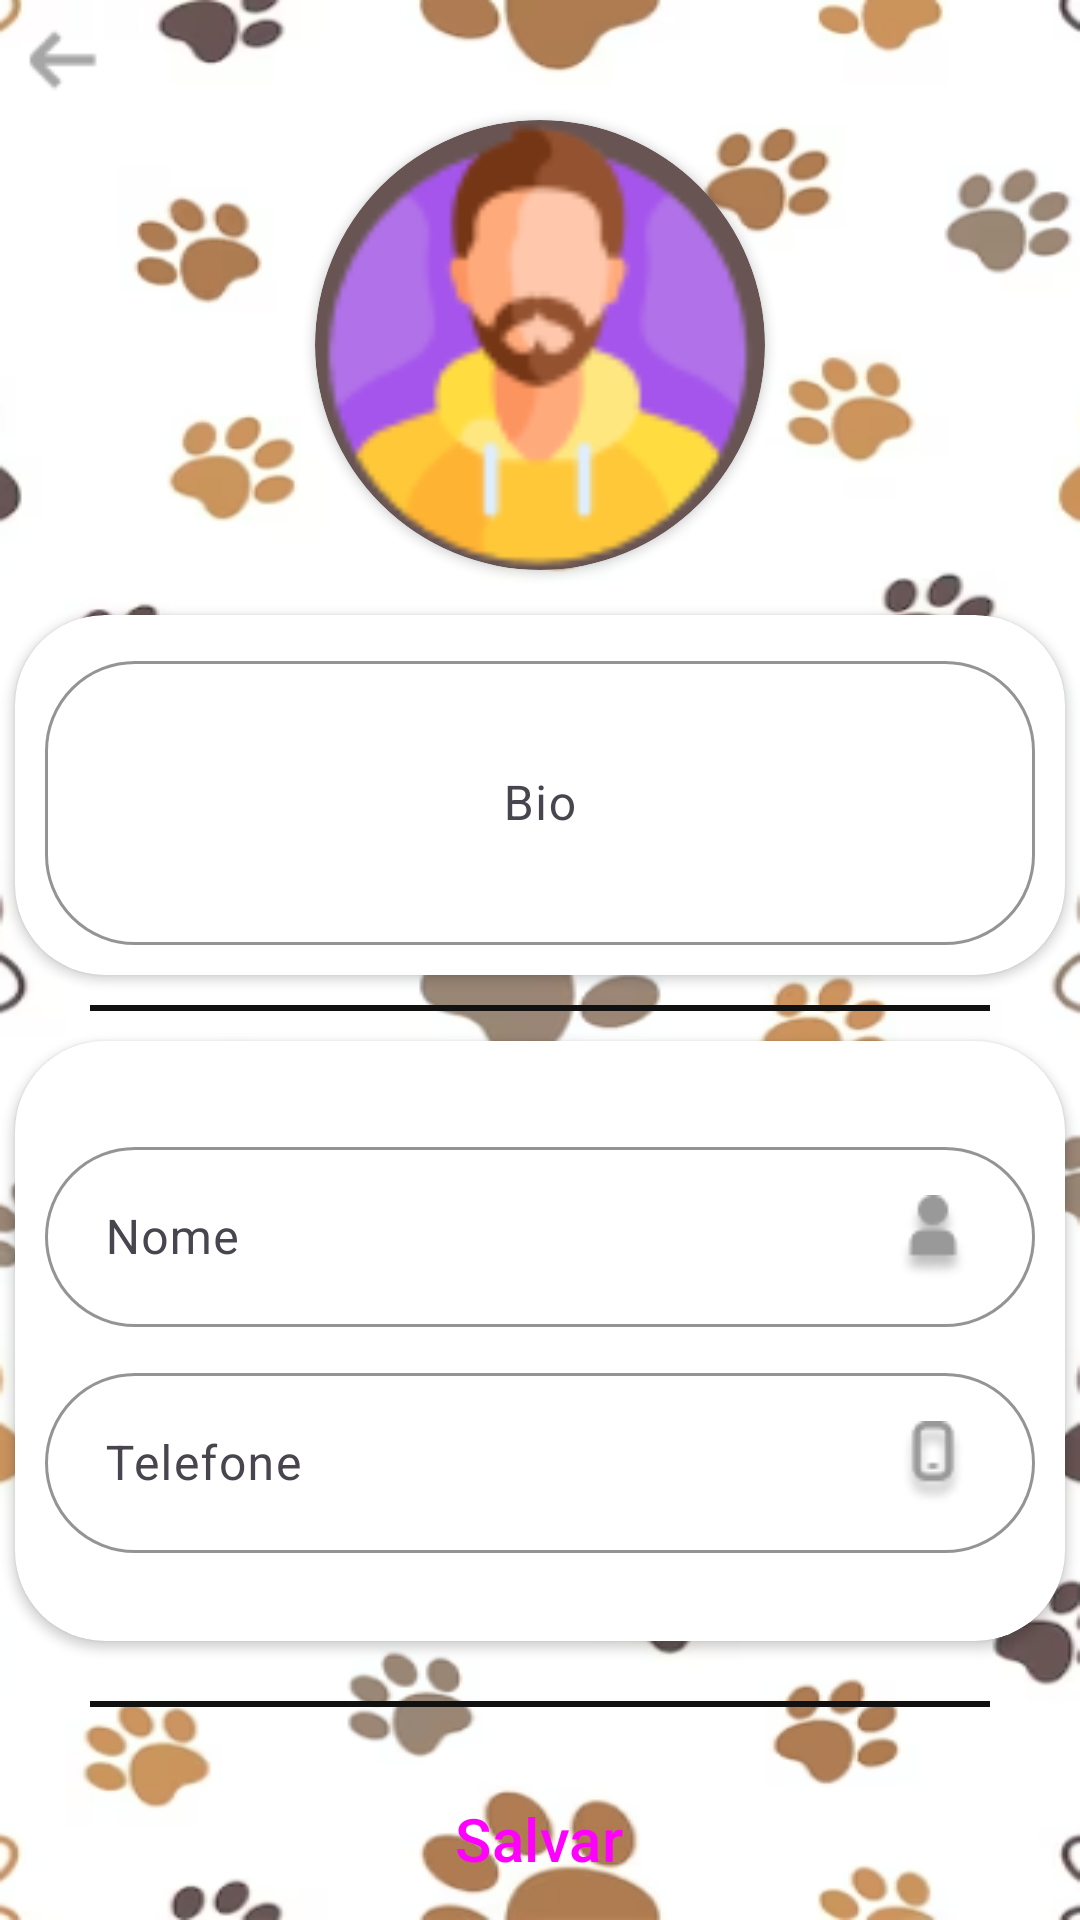

Named icons in this screenshot (1080 x 1920) and their centers, (x=x, y=y):
back: (x=48, y=44)
